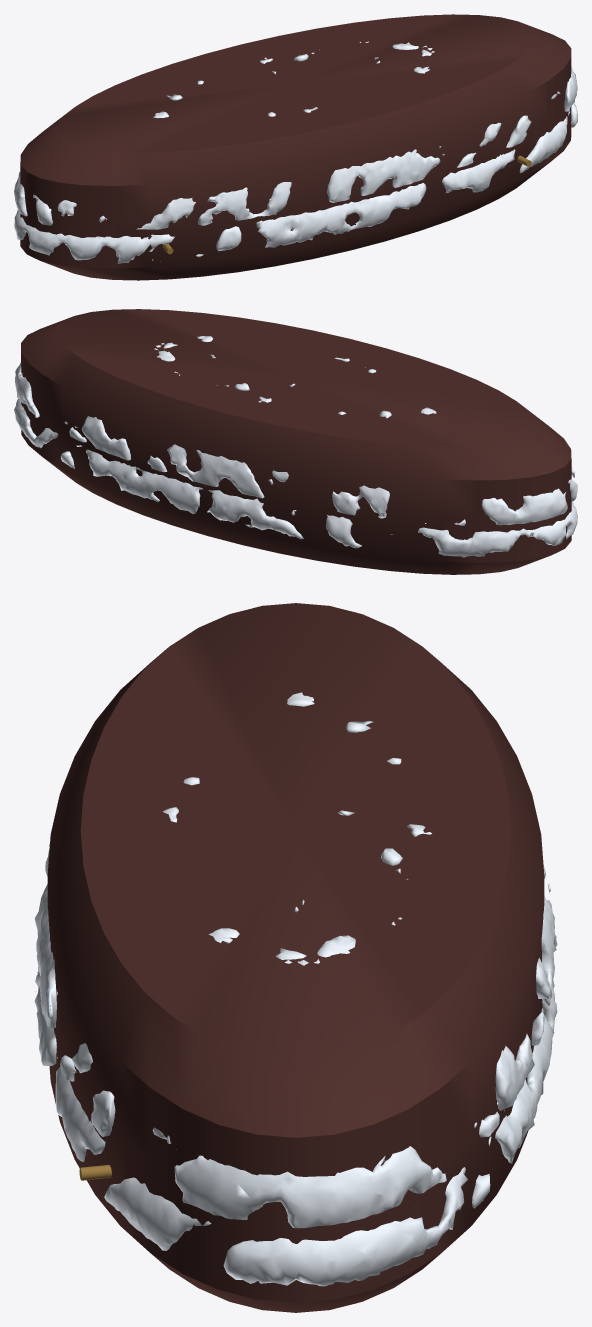
Rendered from spectacles.fbx.
3 renders of one model, top to bottom at view 1: azimuth 30°, elevation 25°; view 2: azimuth 150°, elevation 25°; view 3: azimuth 270°, elevation 25°, orthographic. The views are drawn at different scales.
Visible parts, largest first — view 1: Lid, spectacles; view 2: Lid, spectacles; view 3: Lid, spectacles.
Boxes of the visible parts, bbox=[...] form: Lid: bbox=[14, 14, 577, 229]; spectacles: bbox=[14, 103, 577, 280]; Lid: bbox=[15, 309, 577, 525]; spectacles: bbox=[14, 398, 577, 574]; Lid: bbox=[34, 603, 557, 1228]; spectacles: bbox=[34, 967, 557, 1312].
Size of the model in its own units: 0.1529 by 0.0366 by 0.0632.
